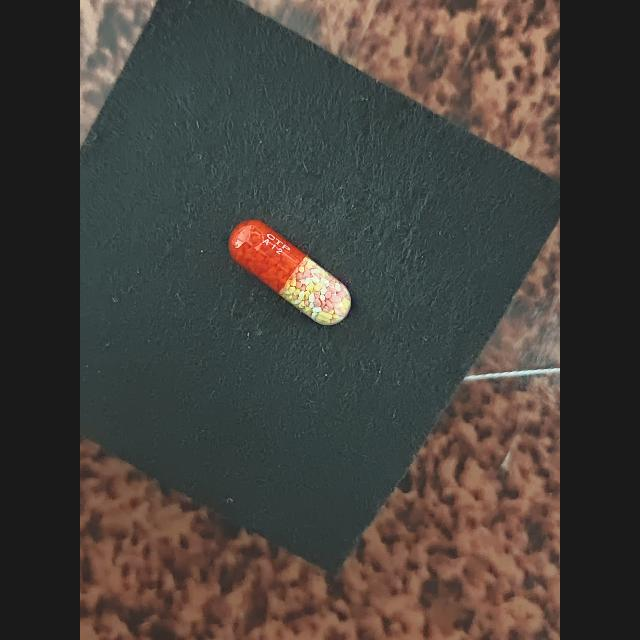Intact Capsule: (228, 219, 351, 325)
